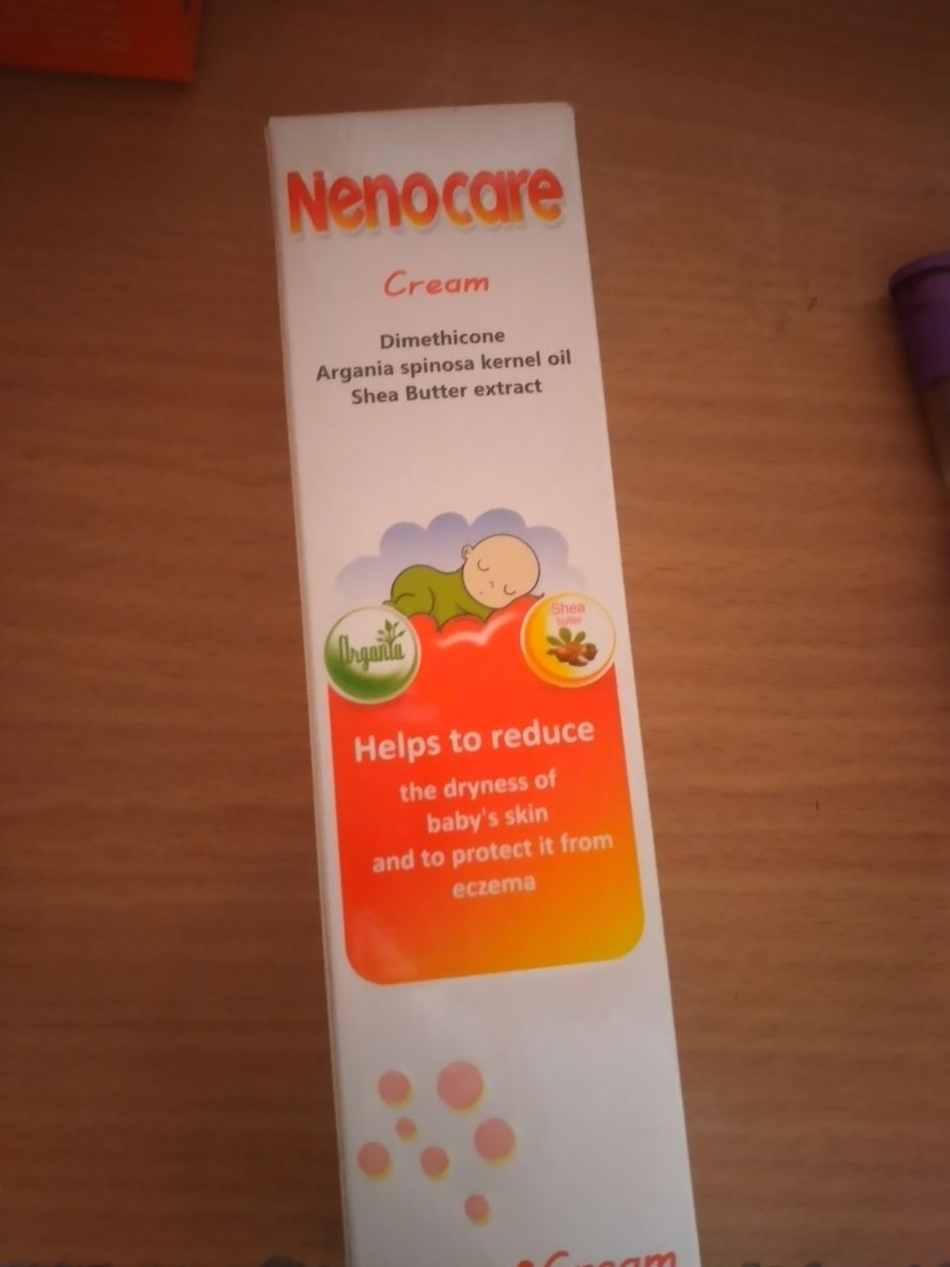Medicine: (261, 96, 709, 1267)
